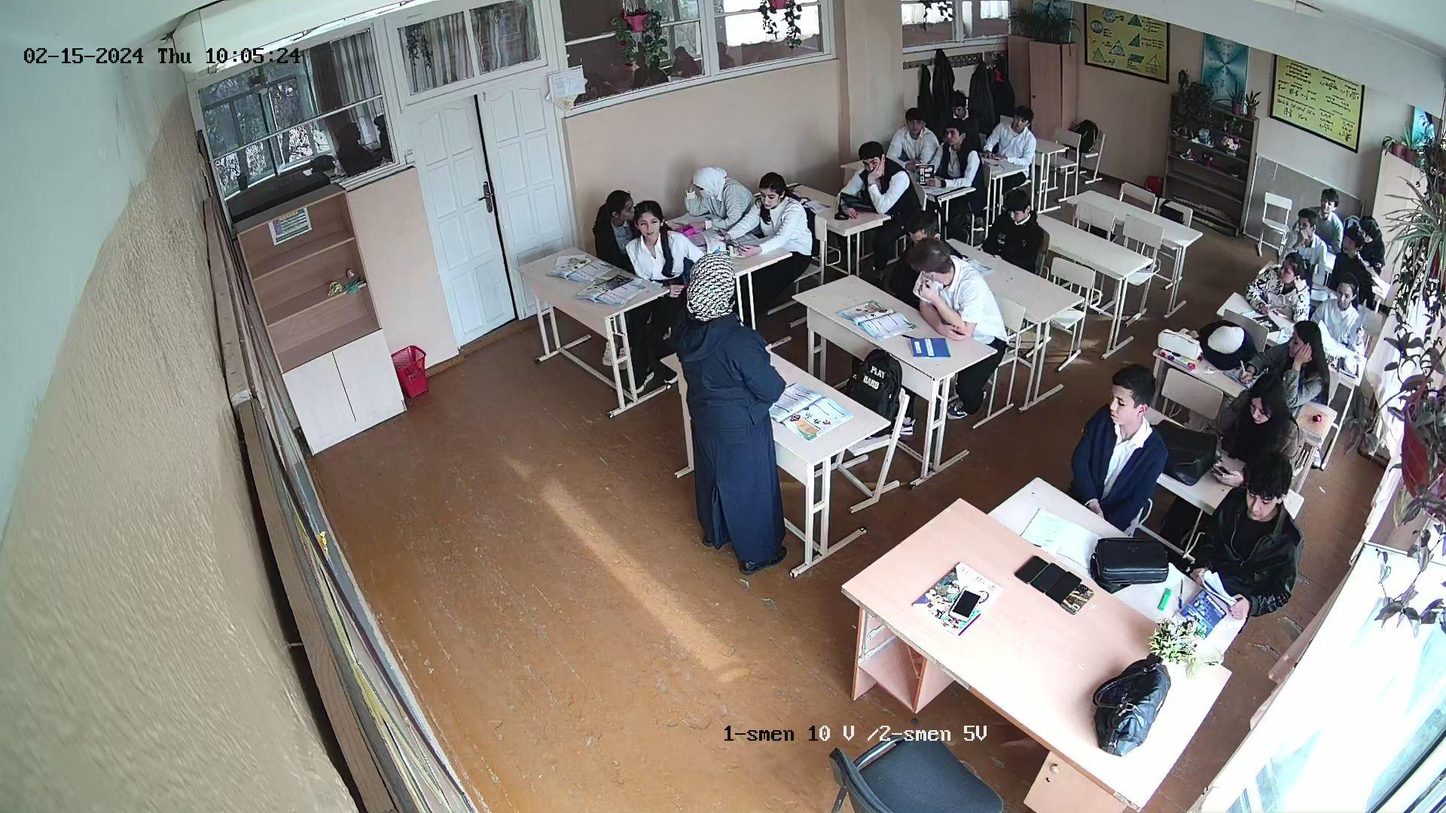Hand Under Table: (1074, 461, 1108, 521)
Look Around: (910, 241, 964, 306), (583, 184, 634, 247), (1007, 105, 1038, 158)
Stand Up: (678, 256, 794, 574)
phone: (1213, 450, 1235, 486)
